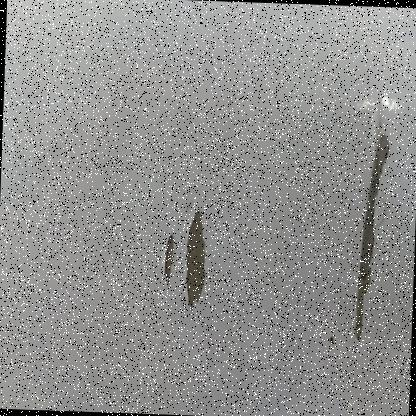Crack: (322, 108, 414, 352), (150, 176, 232, 333)
